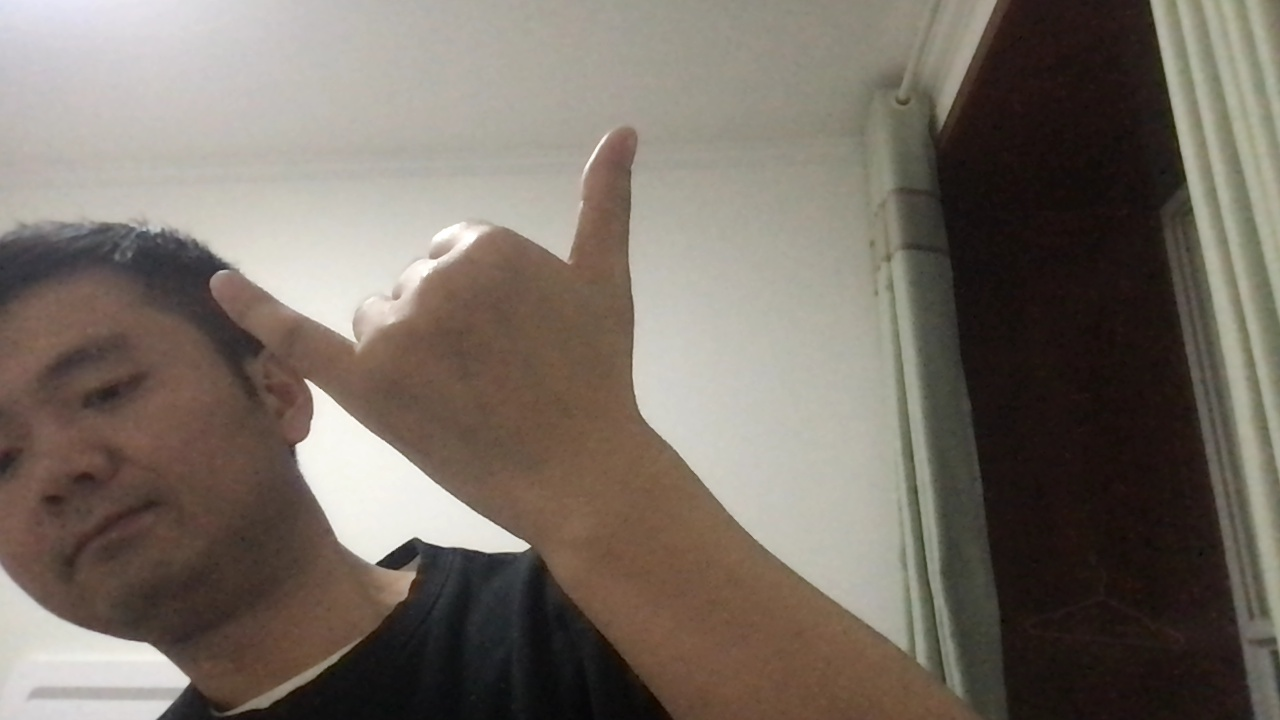iloveyou: (187, 117, 719, 490)
